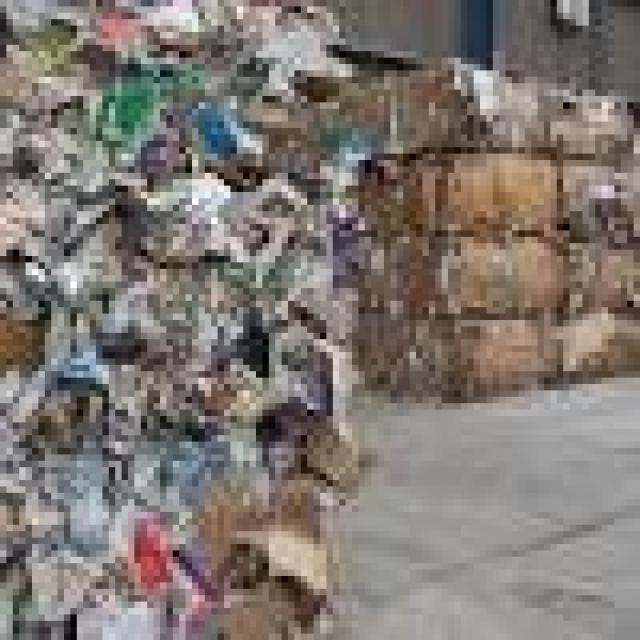Paper -Biodegradable-: (0, 0, 336, 640), (354, 69, 640, 413)
